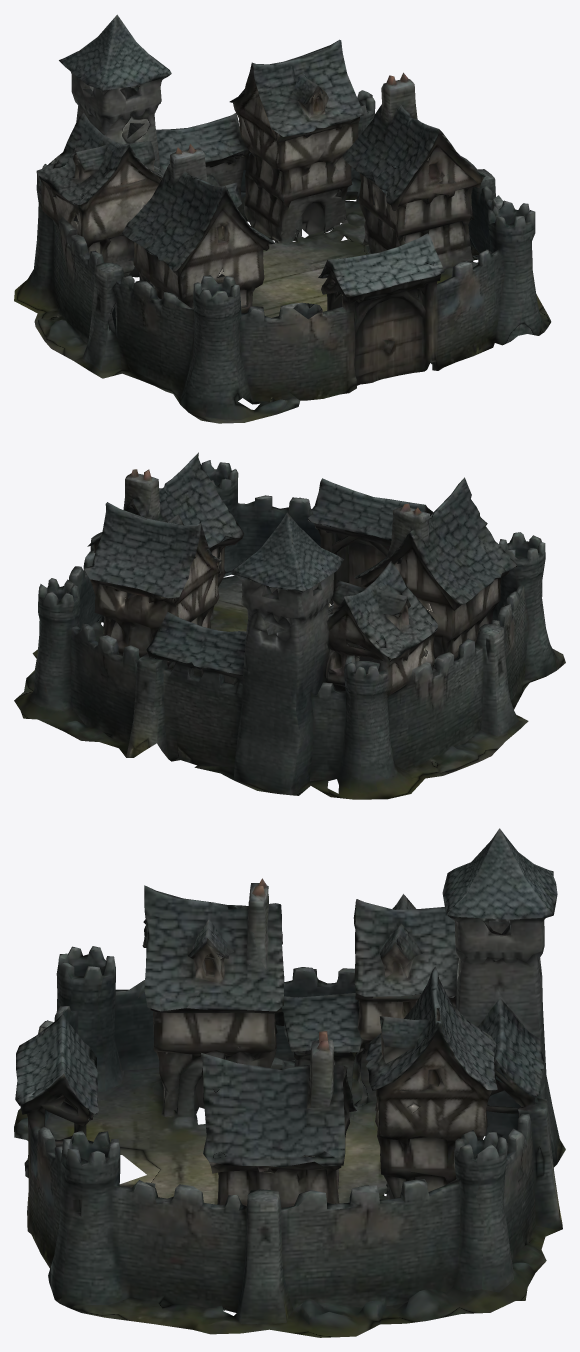
File: city.glb
3 renders of one model, top to bottom at view 1: azimuth 30°, elevation 25°; view 2: azimuth 150°, elevation 25°; view 3: azimuth 270°, elevation 25°, orthographic. The views are drawn at different scales.
Parts seen in each view (by area): view 1: geometry_0; view 2: geometry_0; view 3: geometry_0.
Part boxes in pixels (left/top/right/bottom): geometry_0: left=14, top=14, right=551, bottom=423; geometry_0: left=14, top=452, right=565, bottom=799; geometry_0: left=14, top=828, right=565, bottom=1337.
Size of the model in its own units: 0.9494 by 0.5256 by 0.8186.
1 material, 1 textured.
